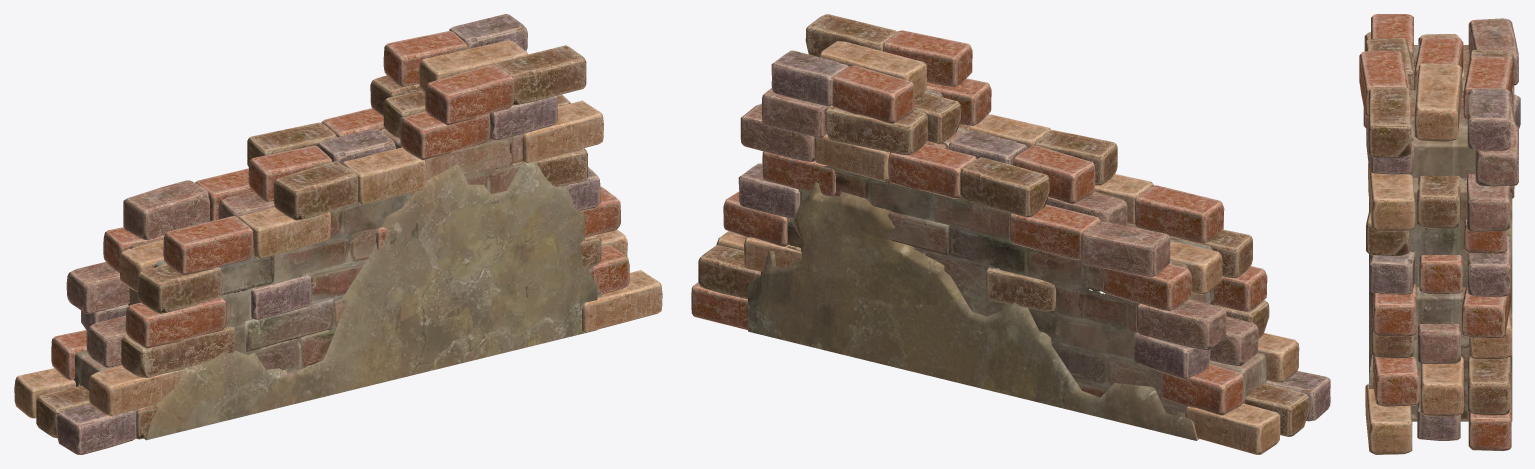
The picture shows the model from 3 angles, left to right: view 1: azimuth 30°, elevation 25°; view 2: azimuth 150°, elevation 25°; view 3: azimuth 270°, elevation 25°; orthographic projection. The views are drawn at different scales.
Parts seen in each view (by area): view 1: SM_Human_Ruins_LowWall_Dmg_08_LOD0; view 2: SM_Human_Ruins_LowWall_Dmg_08_LOD0; view 3: SM_Human_Ruins_LowWall_Dmg_08_LOD0.
Part boxes in pixels (x1=…): SM_Human_Ruins_LowWall_Dmg_08_LOD0: x1=14, y1=14, x2=662, y2=454; SM_Human_Ruins_LowWall_Dmg_08_LOD0: x1=691, y1=14, x2=1330, y2=454; SM_Human_Ruins_LowWall_Dmg_08_LOD0: x1=1359, y1=14, x2=1520, y2=454.
Bounding box in the file's own units: 2.51 × 1.12 × 0.5637.
Materials: 3 (3 with a texture image).
